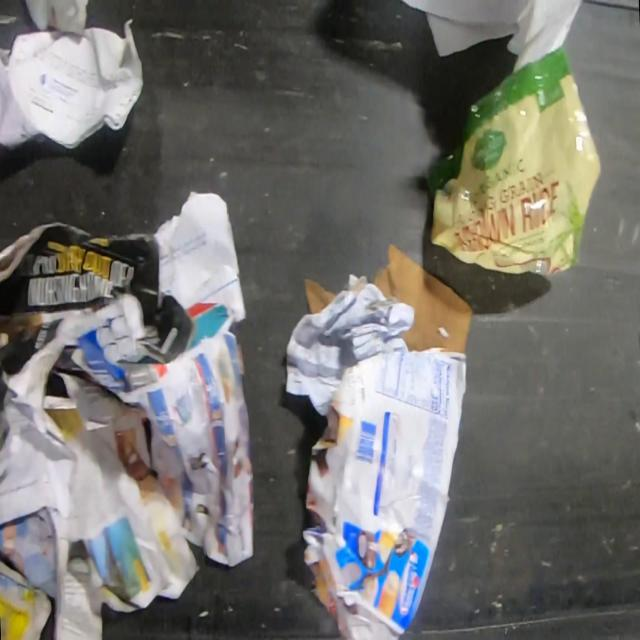cardboard: (302, 348, 468, 640), (373, 241, 473, 352)
soft_plastic: (428, 44, 603, 281)
